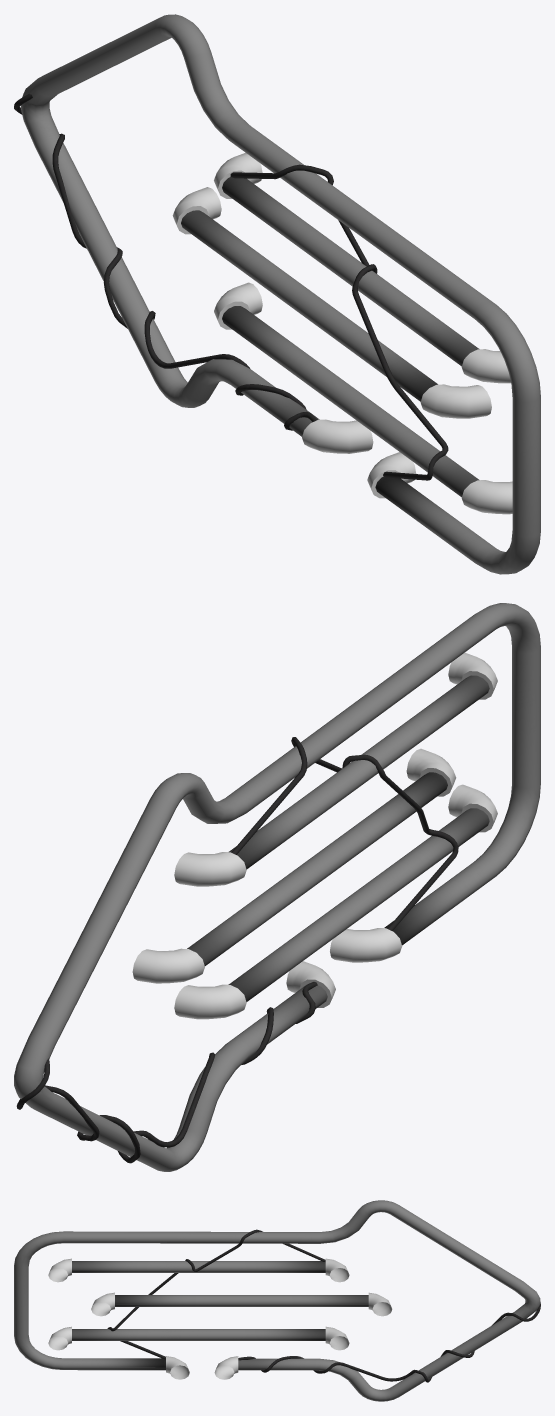
Rendered from Prop_ArrowSign.fbx.
3 views of the same model, one above another, from view 1: azimuth 30°, elevation 25°; view 2: azimuth 150°, elevation 25°; view 3: azimuth 270°, elevation 25° (orthographic). The views are drawn at different scales.
Parts seen in each view (by area): view 1: Prop_ArrowSign; view 2: Prop_ArrowSign; view 3: Prop_ArrowSign.
Boxes of the visible parts, x1=… form: Prop_ArrowSign: x1=14, y1=14, x2=540, y2=574; Prop_ArrowSign: x1=14, y1=603, x2=540, y2=1171; Prop_ArrowSign: x1=14, y1=1200, x2=540, y2=1401.
Bounding box in the file's own units: 6.61 × 46.91 × 112.
